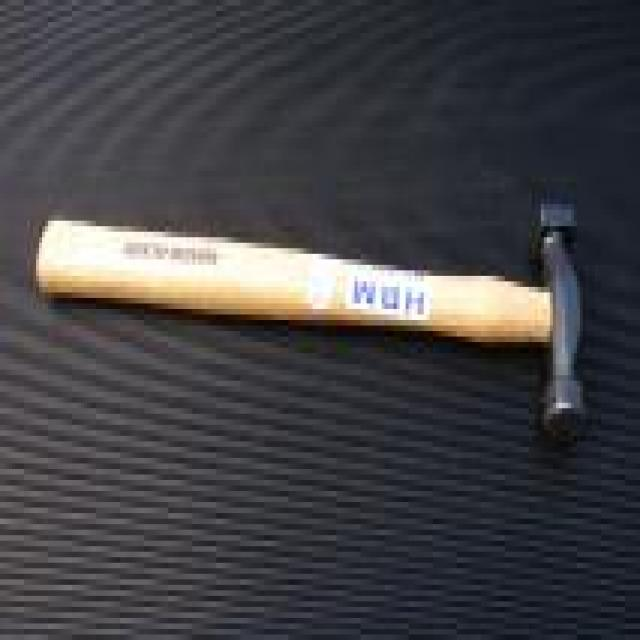hammer: (20, 172, 596, 476)
